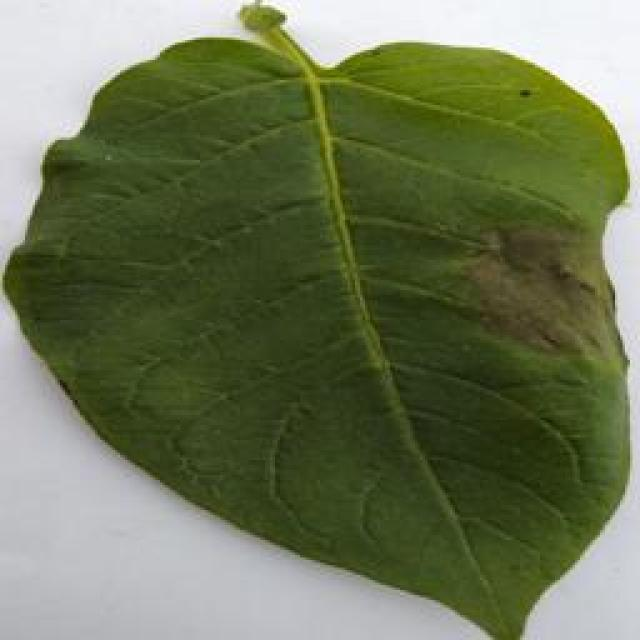Potato_Late_Blight: (2, 12, 623, 637)
